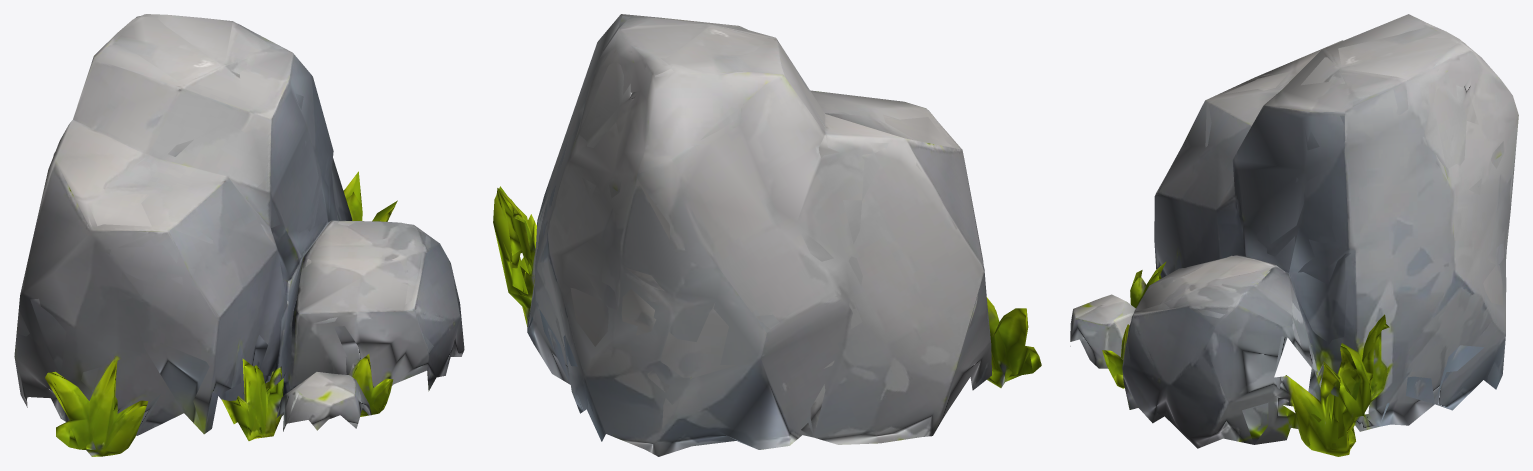
Rendered from rock_meadow.glb.
3 views of the same model, side by side, from view 1: azimuth 30°, elevation 25°; view 2: azimuth 150°, elevation 25°; view 3: azimuth 270°, elevation 25° (orthographic). The views are drawn at different scales.
Visible parts, largest first — view 1: BakeLow; view 2: BakeLow; view 3: BakeLow.
Boxes of the visible parts, x1,y1,x2,y2 form: BakeLow: (14,14,464,456); BakeLow: (493,14,1041,456); BakeLow: (1070,14,1518,456).
Size of the model in its own units: 0.8744 by 0.6556 by 0.808.
Materials: 1 (1 with a texture image).
